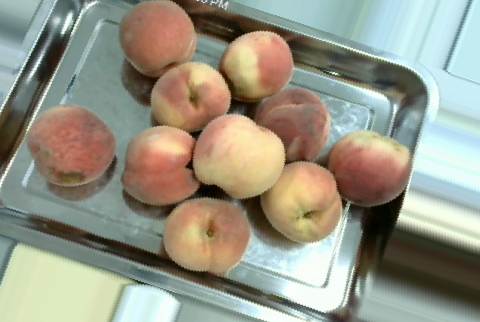Peach: (192, 112, 285, 200), (26, 105, 116, 187), (162, 197, 249, 273), (263, 160, 342, 243), (327, 130, 411, 207), (122, 126, 200, 205), (119, 0, 196, 75), (255, 87, 331, 162), (150, 61, 229, 133), (220, 30, 295, 101)
